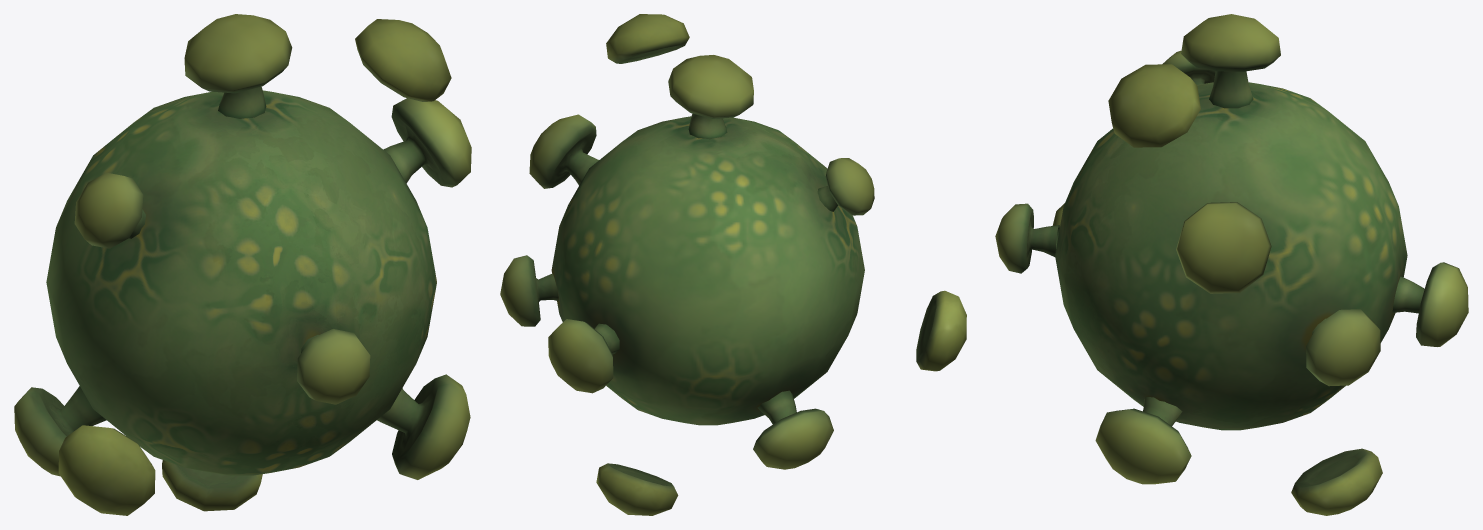
Rendered from Planet_FungusWorld.fbx.
3 views of the same model, side by side, from view 1: azimuth 30°, elevation 25°; view 2: azimuth 150°, elevation 25°; view 3: azimuth 270°, elevation 25° (orthographic). The views are drawn at different scales.
Parts seen in each view (by area): view 1: Planet_FungusWorld; view 2: Planet_FungusWorld; view 3: Planet_FungusWorld.
Boxes of the visible parts, <box> form: Planet_FungusWorld: <box>14,14,471,515</box>; Planet_FungusWorld: <box>500,14,966,515</box>; Planet_FungusWorld: <box>995,14,1468,515</box>.
Size of the model in its own units: 280 by 306 by 274.
